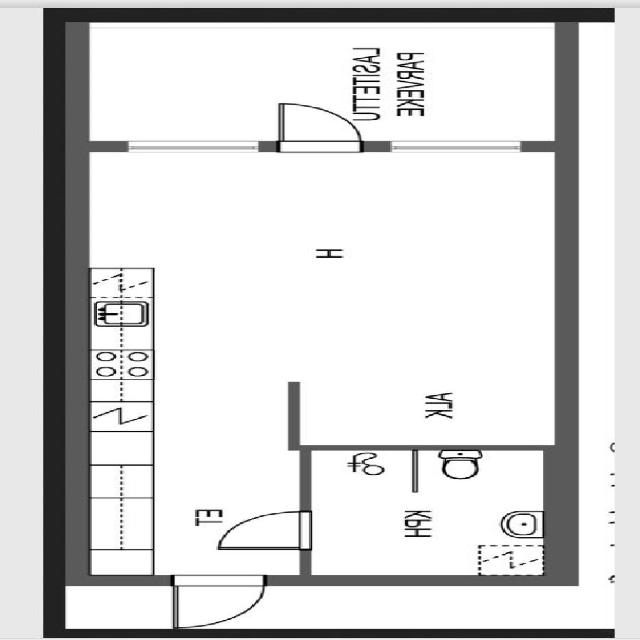door: (304, 445, 556, 578), (263, 98, 370, 157)
window: (366, 135, 542, 159), (108, 134, 280, 158)
zone: (82, 143, 561, 442), (81, 442, 310, 585), (165, 570, 276, 631), (206, 506, 322, 552)
